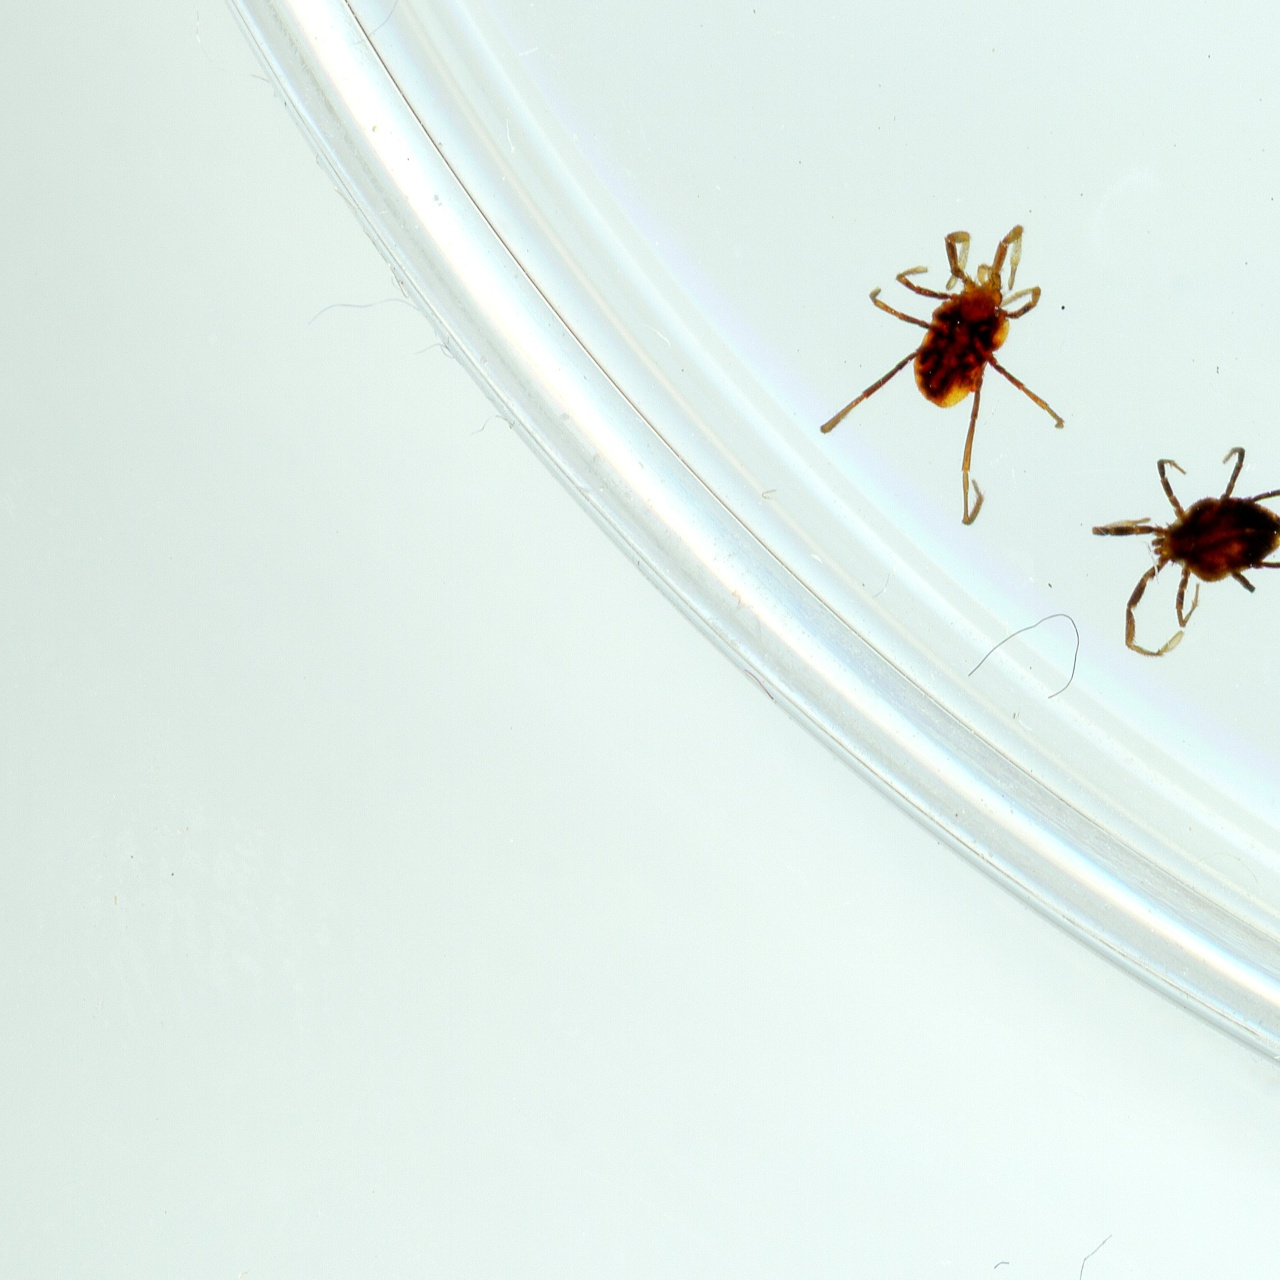arthropod: (815, 219, 1070, 530), (1087, 441, 1280, 666)
